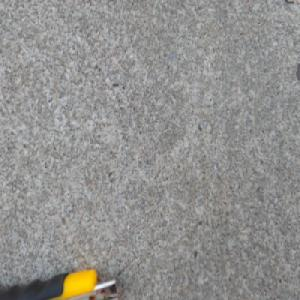Cutter: (0, 262, 120, 300)
